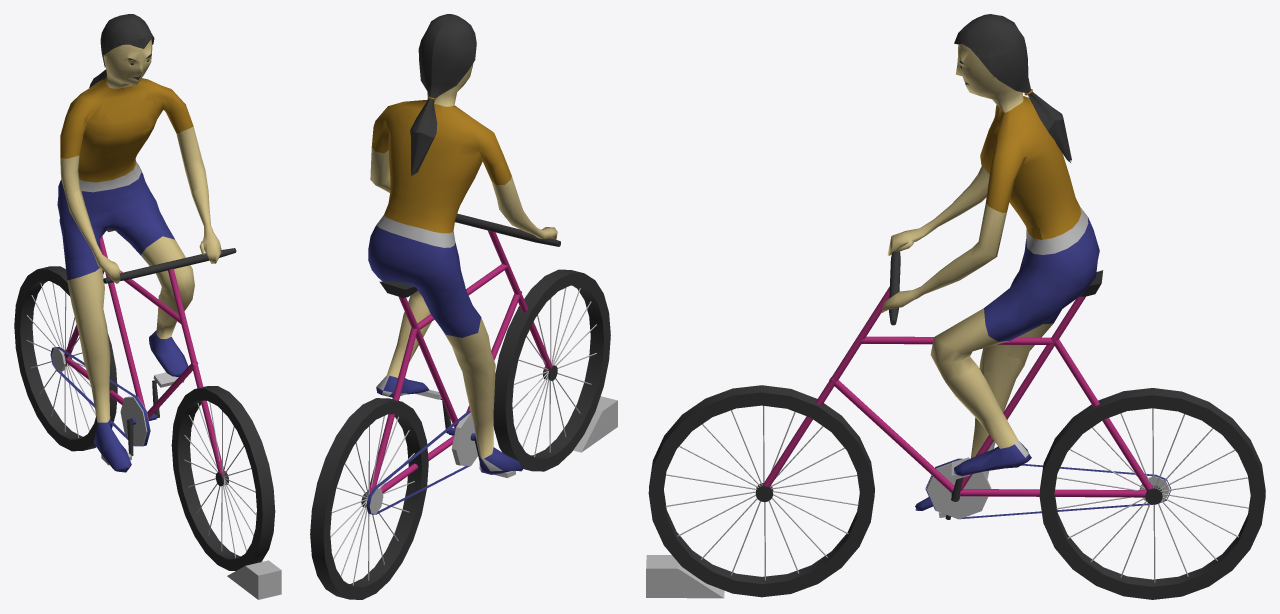
File: body.dae
3 views of the same model, side by side, from view 1: azimuth 30°, elevation 25°; view 2: azimuth 150°, elevation 25°; view 3: azimuth 270°, elevation 25° (orthographic). The views are drawn at different scales.
Parts seen in each view (by area): view 1: polySurface5, transform6, transform62, transform1, transform61, transform5, transform60, transform3, polySurface4, transform20, transform11, transform18 (+2 smaller); view 2: polySurface5, transform6, transform1, transform62, transform61, transform11, transform60, beam3, transform3, polySurface4, transform20, transform18 (+5 smaller); view 3: polySurface5, transform6, transform62, transform61, transform1, transform5, transform20, beam4, transform3, transform11, beam1, beam3 (+2 smaller).
Part boxes in pixels (x1,y1,x2,y2): polySurface5: [14, 14, 281, 599]; transform6: [57, 44, 221, 470]; transform62: [171, 387, 274, 570]; transform1: [60, 69, 193, 251]; transform61: [14, 266, 116, 451]; transform5: [168, 268, 225, 479]; transform60: [228, 560, 281, 599]; transform3: [99, 236, 145, 408]; polySurface4: [103, 248, 236, 351]; transform20: [120, 396, 150, 445]; transform11: [91, 14, 154, 85]; transform18: [50, 347, 150, 446]; polySurface5: [323, 14, 616, 599]; transform6: [370, 63, 557, 471]; transform1: [371, 86, 511, 320]; transform62: [493, 269, 610, 471]; transform61: [310, 398, 427, 599]; transform11: [410, 14, 476, 175]; transform60: [573, 396, 617, 452]; beam3: [368, 327, 417, 492]; transform3: [399, 297, 459, 429]; polySurface4: [455, 213, 560, 370]; transform20: [454, 412, 477, 465]; transform18: [366, 411, 470, 514]; polySurface5: [646, 14, 1265, 598]; transform6: [883, 47, 1099, 510]; transform62: [648, 385, 874, 597]; transform61: [1039, 388, 1265, 599]; transform1: [971, 96, 1070, 267]; transform5: [762, 286, 889, 486]; transform20: [926, 462, 991, 519]; beam4: [960, 489, 1146, 497]; transform3: [960, 296, 1085, 491]; transform11: [958, 14, 1071, 162]; beam1: [829, 377, 954, 492]; beam3: [1054, 339, 1152, 490].
Size of what is drawn, in the model's own units: 5.88 by 19.69 by 19.19.
